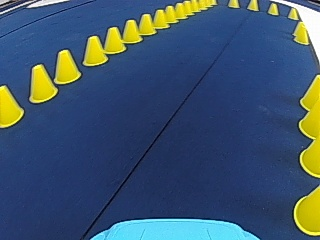cone: (293, 186, 318, 234), (28, 63, 57, 102), (0, 85, 24, 126), (54, 49, 82, 83), (298, 95, 319, 137), (299, 135, 318, 177), (83, 35, 108, 66), (299, 75, 319, 112), (103, 26, 125, 53), (122, 19, 141, 43), (138, 14, 155, 35), (153, 9, 168, 28), (294, 27, 309, 45), (164, 5, 177, 22), (293, 22, 307, 37), (175, 2, 187, 19), (268, 2, 279, 15), (183, 1, 193, 15), (287, 8, 298, 20), (247, 0, 258, 11), (228, 0, 239, 8)
